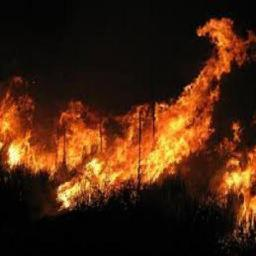Large fire: (1, 11, 255, 245)
